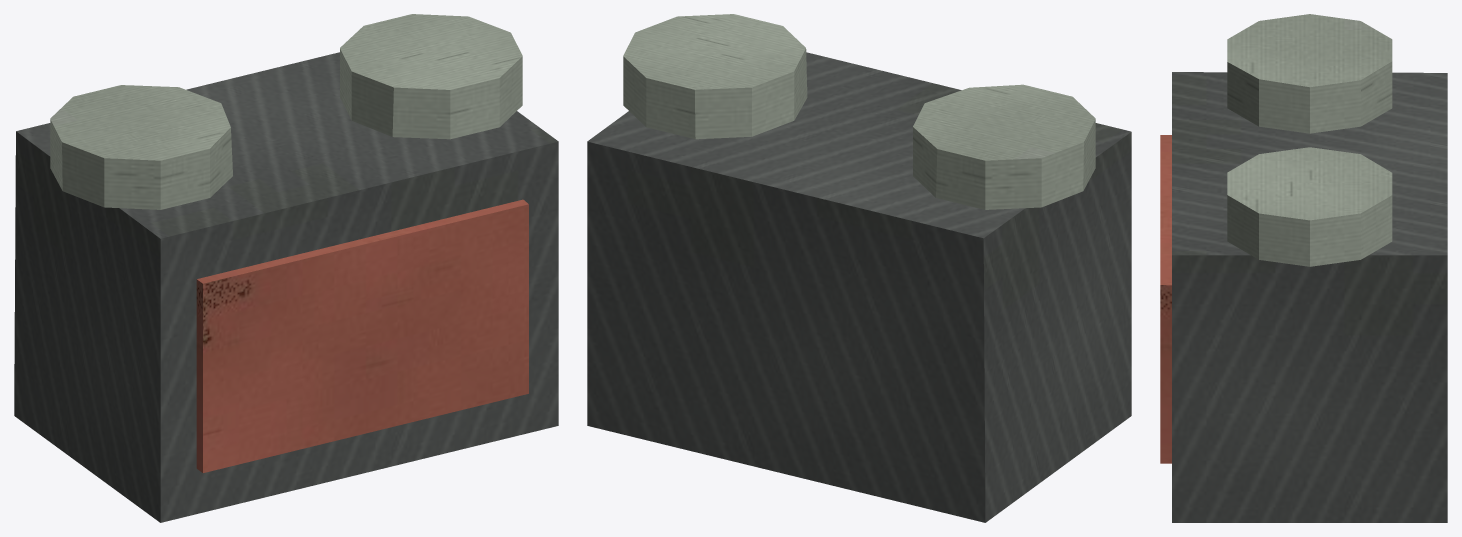
Rendered from alarmclock_v1.glb.
3 renders of one model, left to right at view 1: azimuth 30°, elevation 25°; view 2: azimuth 150°, elevation 25°; view 3: azimuth 270°, elevation 25°, orthographic. The views are drawn at different scales.
Visible parts, largest first — view 1: Variant_alarmclock_1; view 2: Variant_alarmclock_1; view 3: Variant_alarmclock_1.
Part boxes in pixels (box(x1,y1,x2,y2)): Variant_alarmclock_1: box(14, 14, 558, 522); Variant_alarmclock_1: box(587, 14, 1131, 522); Variant_alarmclock_1: box(1160, 14, 1447, 522).
Size of the model in its own units: 0.124 by 0.088 by 0.073.
3 materials, 3 textured.
